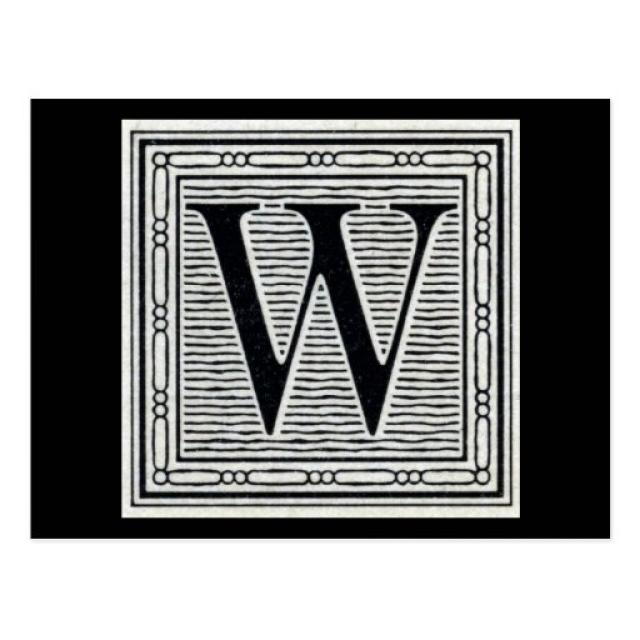W: (190, 185, 462, 460)
